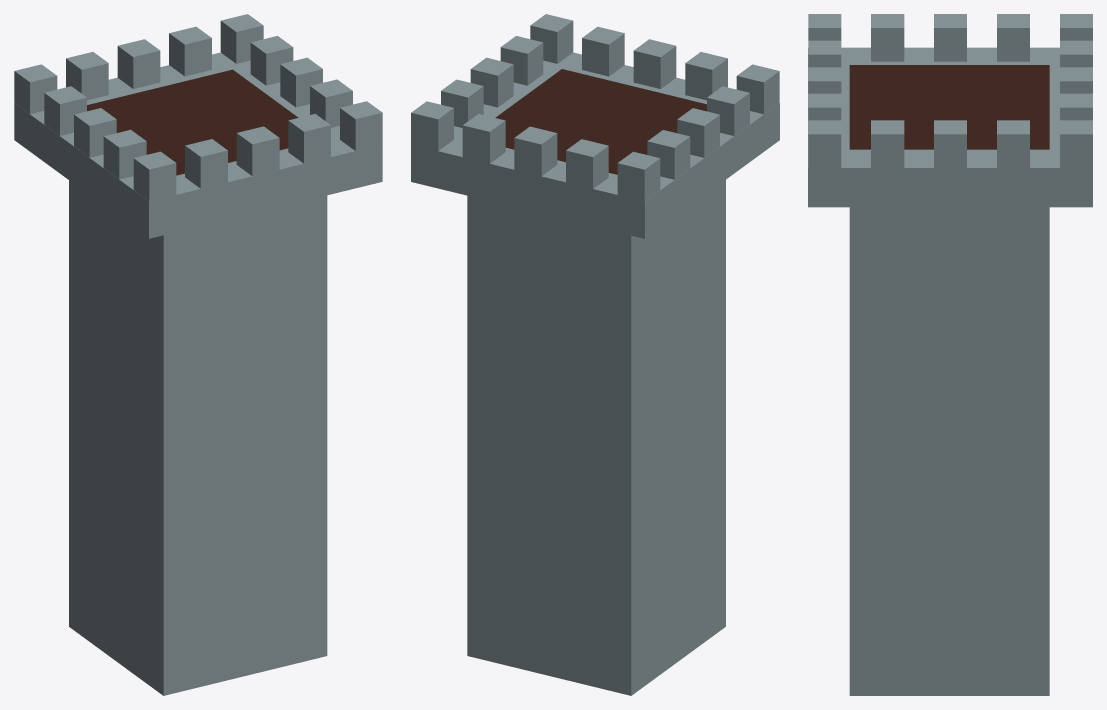
File: Tower_corrected.fbx
3 views of the same model, side by side, from view 1: azimuth 30°, elevation 25°; view 2: azimuth 150°, elevation 25°; view 3: azimuth 270°, elevation 25° (orthographic). The views are drawn at different scales.
Parts seen in each view (by area): view 1: Cube.002; view 2: Cube.002; view 3: Cube.002.
Boxes of the visible parts, <box> form: Cube.002: <box>14,14,382,695</box>; Cube.002: <box>411,14,779,695</box>; Cube.002: <box>808,14,1092,695</box>.
Bounding box in the file's own units: 285 × 640 × 285.
